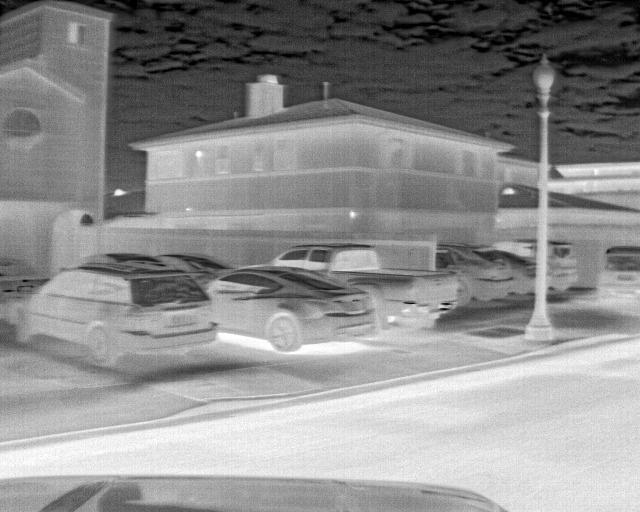car: (13, 266, 216, 370), (272, 245, 455, 335), (198, 269, 380, 350), (435, 248, 514, 302), (154, 252, 229, 288), (479, 251, 534, 295), (597, 245, 639, 301), (547, 243, 578, 301), (491, 238, 538, 261)
